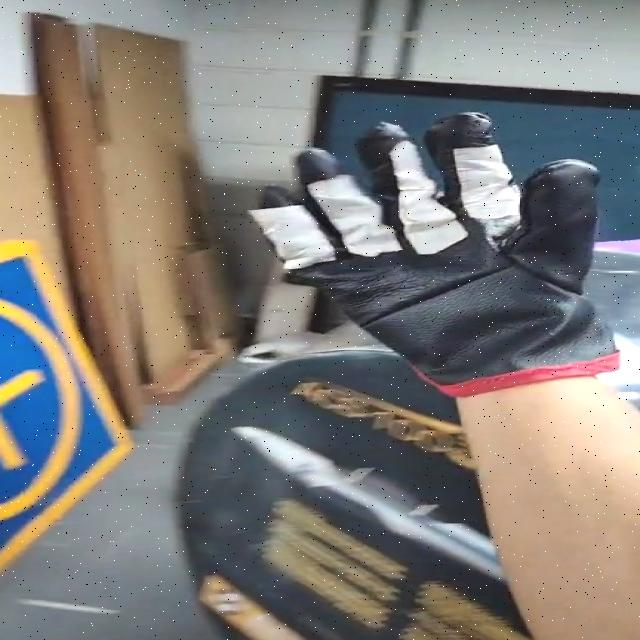Gloves: (247, 114, 620, 391)
